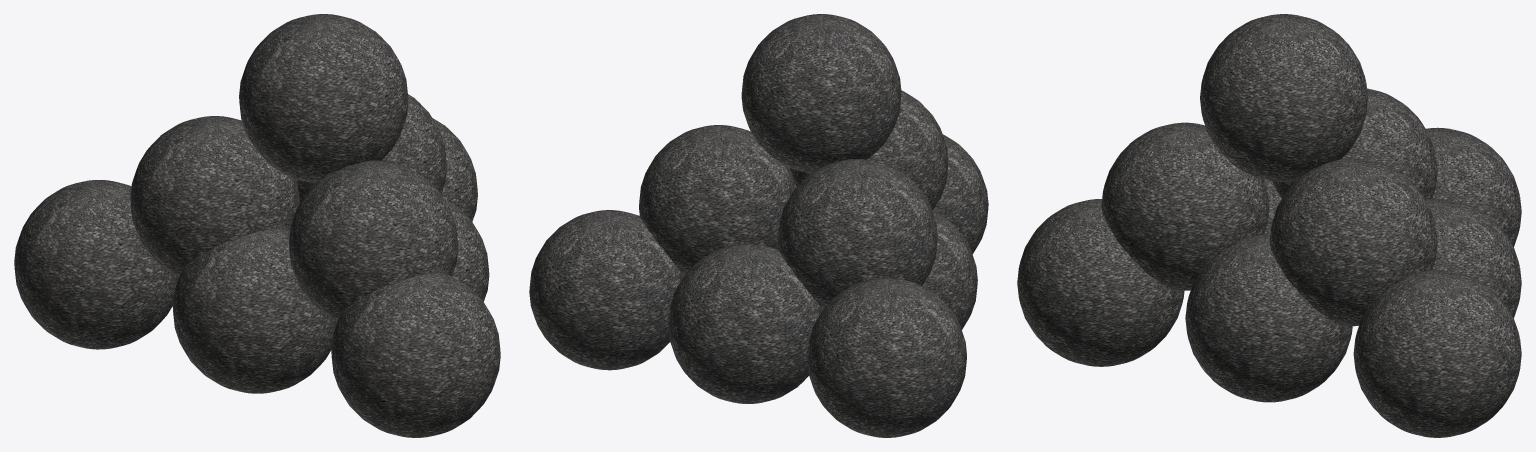
Rendered from cannonball.fbx.
3 renders of one model, left to right at view 1: azimuth 30°, elevation 25°; view 2: azimuth 150°, elevation 25°; view 3: azimuth 270°, elevation 25°, orthographic. The views are drawn at different scales.
Parts seen in each view (by area): view 1: Sphere.008; view 2: Sphere.008; view 3: Sphere.008.
Boxes of the visible parts, x1,y1,x2,y2 form: Sphere.008: (14,14,500,437); Sphere.008: (529,14,988,437); Sphere.008: (1017,14,1521,437).
Bounding box in the file's own units: 600 × 443 × 600.
